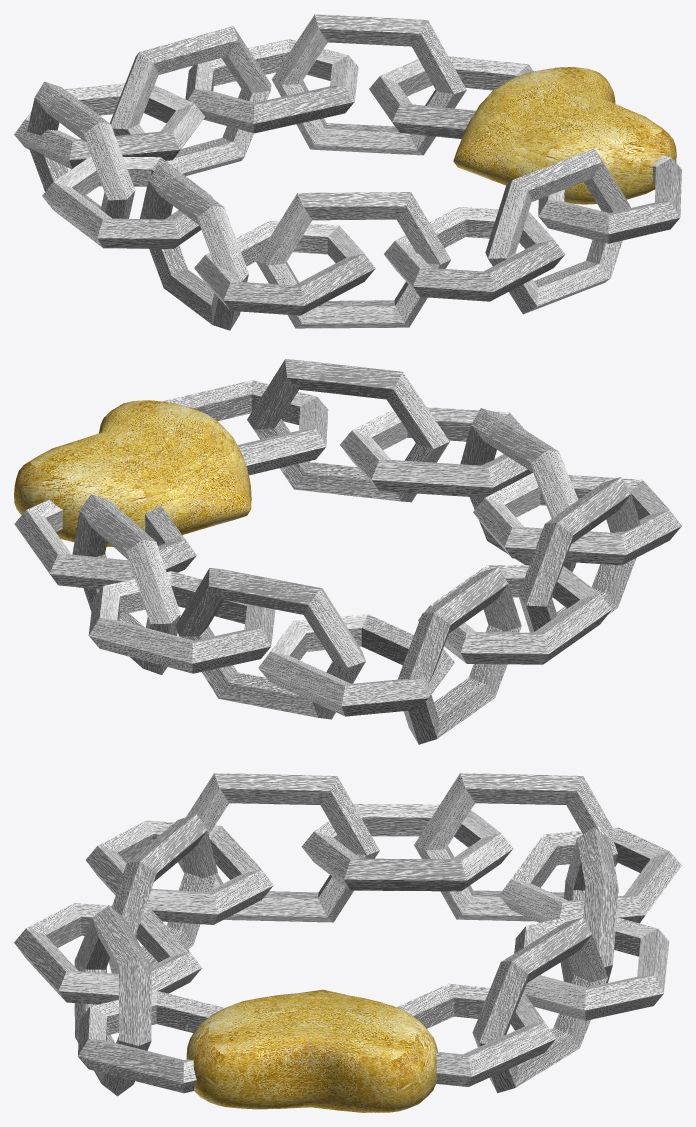
File: pulseraplata2.glb
3 renders of one model, top to bottom at view 1: azimuth 30°, elevation 25°; view 2: azimuth 150°, elevation 25°; view 3: azimuth 270°, elevation 25°, orthographic. The views are drawn at different scales.
Parts seen in each view (by area): view 1: Cube.001, Toroide.014, Toroide.010, Toroide.009, Toroide.002, Toroide.006, Toroide.005, Toroide.013, Toroide.007, Toroide.008, Toroide.003, Toroide.001 (+2 smaller); view 2: Cube.001, Toroide.009, Toroide.002, Toroide.006, Toroide.001, Toroide.003, Toroide.013, Toroide.005, Toroide.007, Toroide.008, Toroide.010, Toroide.012 (+2 smaller); view 3: Cube.001, Toroide.008, Toroide.007, Toroide.001, Toroide.010, Toroide.005, Toroide.013, Toroide.003, Toroide.006, Toroide.012, Toroide.011, Toroide.009 (+2 smaller).
Boxes of the visible parts, <box> form: Cube.001: <box>453,67,676,204</box>; Toroide.014: <box>255,192,450,328</box>; Toroide.010: <box>271,14,466,155</box>; Toroide.009: <box>485,148,630,314</box>; Toroide.002: <box>110,26,271,175</box>; Toroide.006: <box>185,39,358,133</box>; Toroide.005: <box>384,207,564,301</box>; Toroide.013: <box>194,221,375,315</box>; Toroide.007: <box>140,165,248,330</box>; Toroide.008: <box>42,156,213,248</box>; Toroide.003: <box>14,83,204,169</box>; Toroide.001: <box>27,81,135,218</box>; Cube.001: <box>14,400,251,546</box>; Toroide.009: <box>247,359,449,502</box>; Toroide.002: <box>175,568,365,719</box>; Toroide.006: <box>88,571,275,673</box>; Toroide.001: <box>397,566,521,744</box>; Toroide.003: <box>258,614,454,716</box>; Toroide.013: <box>473,473,681,565</box>; Toroide.005: <box>340,407,532,497</box>; Toroide.007: <box>518,477,640,632</box>; Toroide.008: <box>418,565,611,664</box>; Toroide.010: <box>72,494,180,674</box>; Toroide.012: <box>14,499,196,589</box>; Cube.001: <box>186,989,437,1112</box>; Toroide.008: <box>301,804,513,891</box>; Toroide.007: <box>178,773,379,922</box>; Toroide.001: <box>414,773,617,921</box>; Toroide.010: <box>472,917,607,1092</box>; Toroide.005: <box>14,903,201,1004</box>; Toroide.013: <box>86,820,273,924</box>; Toroide.003: <box>499,827,681,923</box>; Toroide.006: <box>514,913,669,1020</box>; Toroide.012: <box>396,983,555,1086</box>; Toroide.011: <box>78,991,224,1093</box>; Toroide.009: <box>74,905,151,1096</box>.
Bounding box in the file's own units: 4.63 × 1.08 × 4.67.
Materials: 2 (2 with a texture image).
